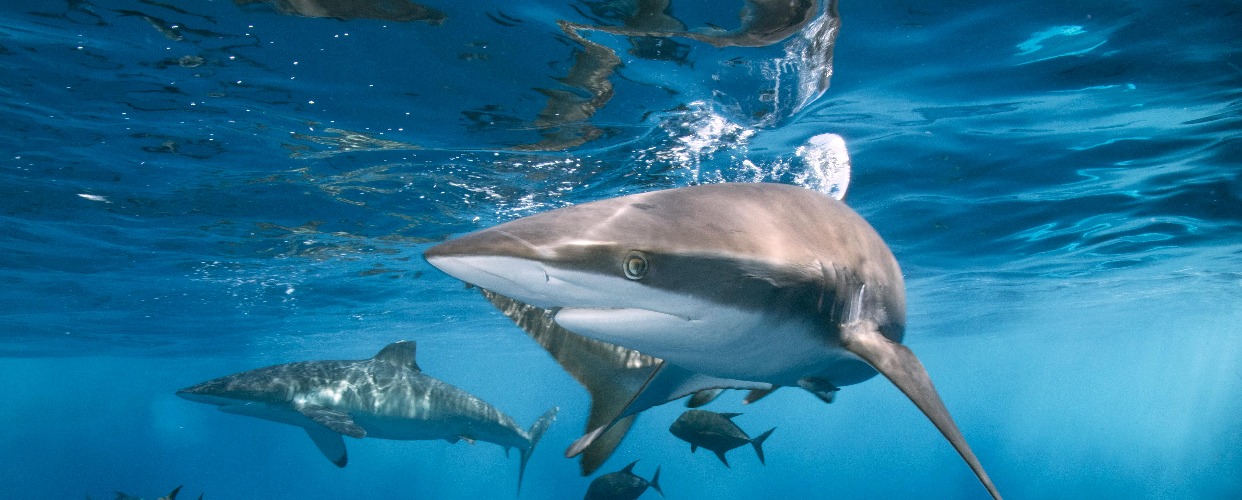fishLarge: (667, 406, 781, 468), (582, 457, 667, 500)
shark: (421, 163, 1009, 500), (158, 337, 559, 497)
